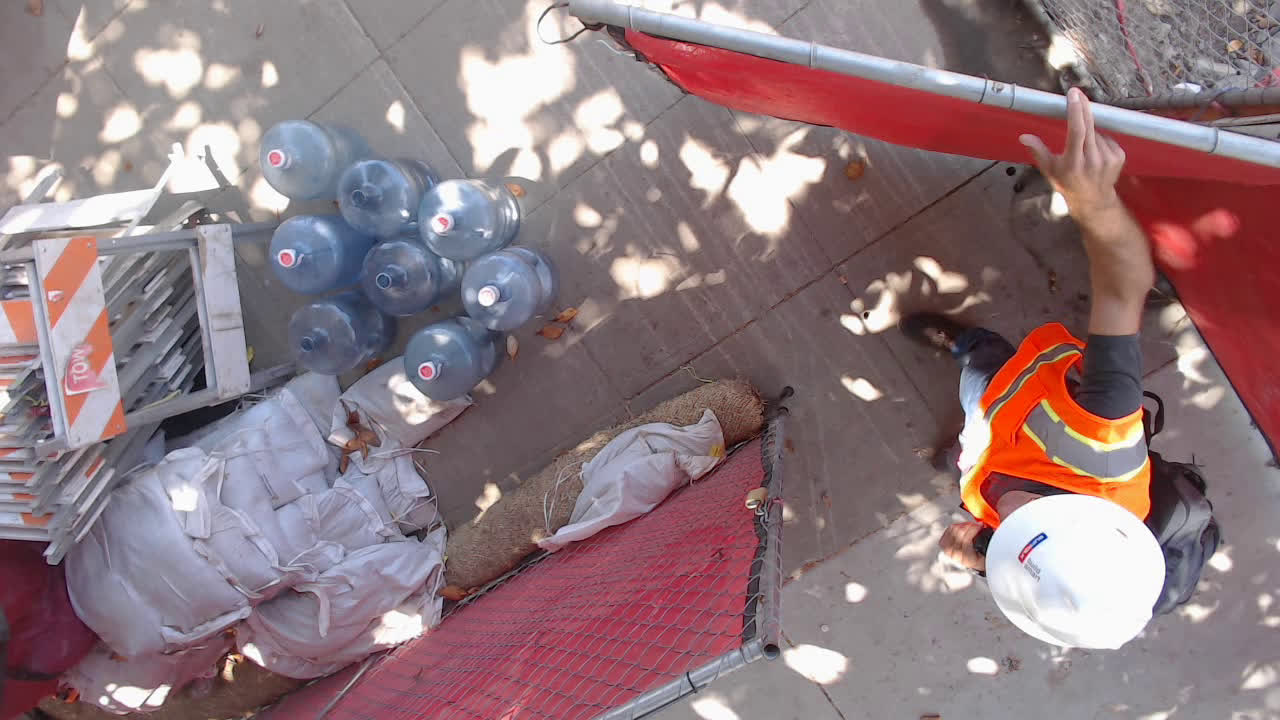hardhat: (983, 492, 1169, 653)
safetyvest: (956, 320, 1152, 538)
